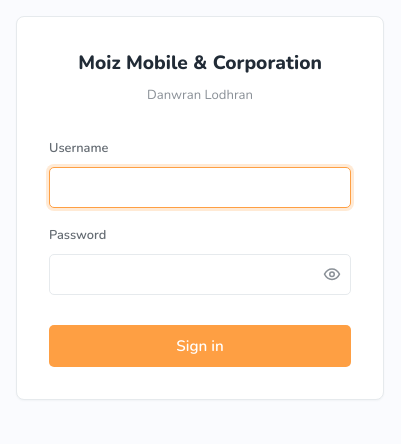
Scenario: LoginForm › requires a password
This screenshot has width=401, height=444.
Step 1. Type "admin" into the field labelled "Username" → point(200, 188), box left=49, top=167, right=351, bottom=208
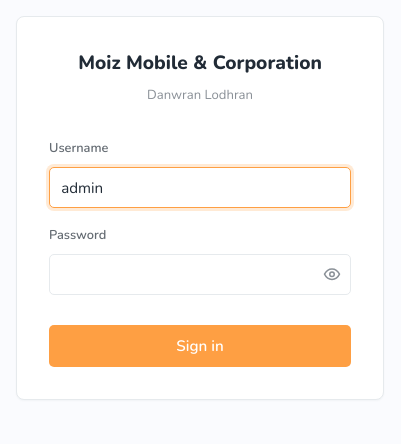
Step 2. Click the button "Sign in" → point(200, 346), box left=49, top=325, right=351, bottom=367
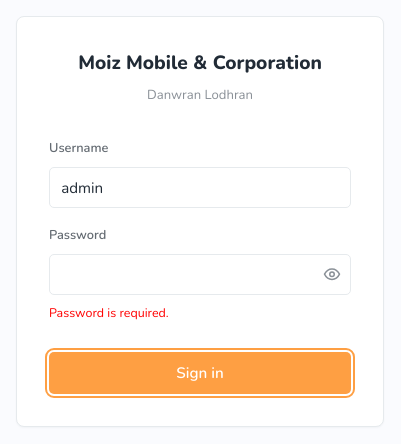
Expected: the text "Password is required." is shown, left=49, top=304, right=169, bottom=321
